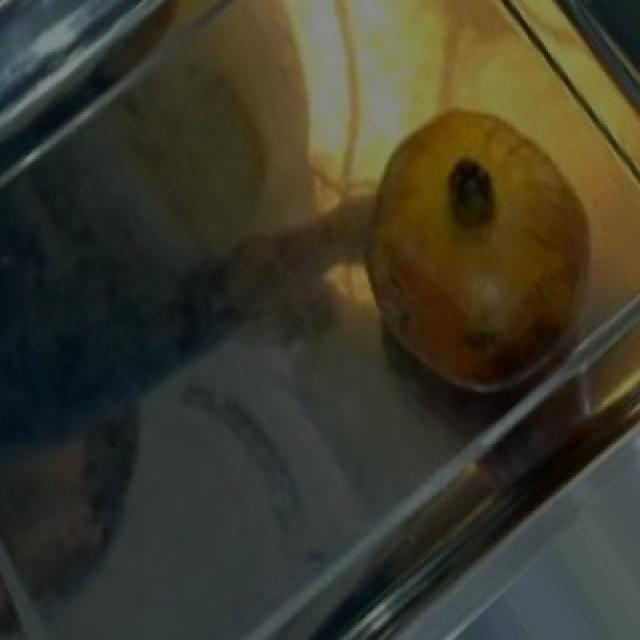fruit: (334, 75, 616, 338)
